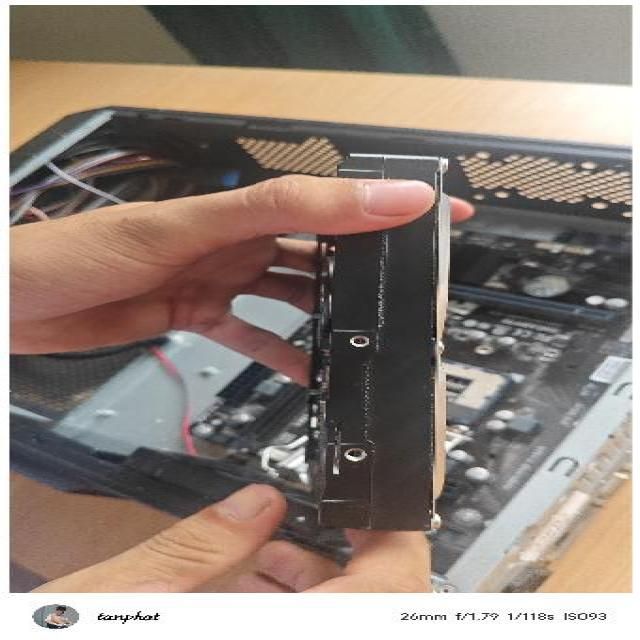DISK: (293, 145, 462, 535)
